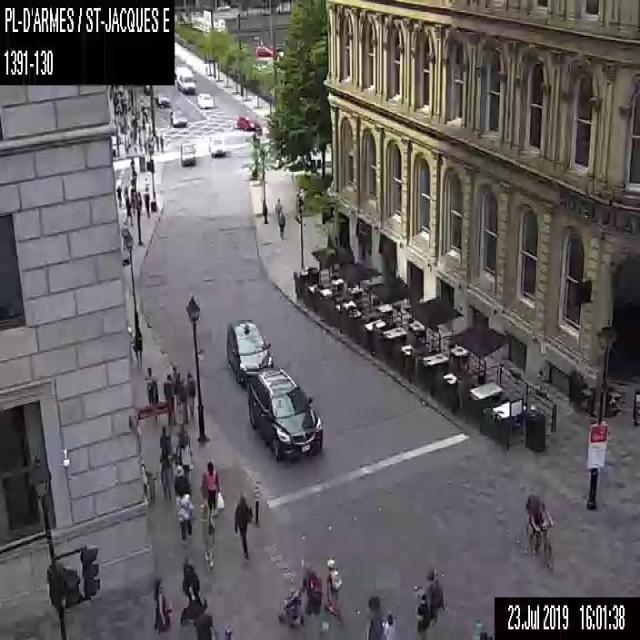cyclist: (525, 492, 552, 570)
pedestrian: (276, 561, 322, 627), (178, 597, 217, 639), (324, 554, 344, 624), (174, 482, 195, 546), (232, 491, 252, 558), (200, 458, 223, 516), (151, 577, 171, 639), (427, 566, 444, 633), (181, 554, 203, 602), (200, 500, 215, 568), (412, 584, 430, 638), (174, 422, 193, 472), (366, 596, 384, 639), (159, 448, 174, 498), (162, 372, 175, 424), (173, 464, 190, 496), (184, 371, 195, 415), (145, 367, 158, 404), (470, 618, 493, 638), (381, 608, 396, 638), (132, 325, 142, 366), (122, 197, 133, 225), (159, 426, 170, 450), (142, 186, 150, 218), (278, 210, 284, 238), (115, 184, 122, 206), (274, 196, 282, 212), (155, 132, 159, 150), (159, 132, 163, 150)
vehicle: (247, 367, 323, 462), (226, 318, 273, 383), (176, 65, 196, 93), (179, 138, 196, 166), (207, 134, 226, 158), (235, 114, 260, 130), (169, 108, 186, 127), (197, 91, 213, 108), (254, 45, 272, 56), (158, 93, 170, 107)
